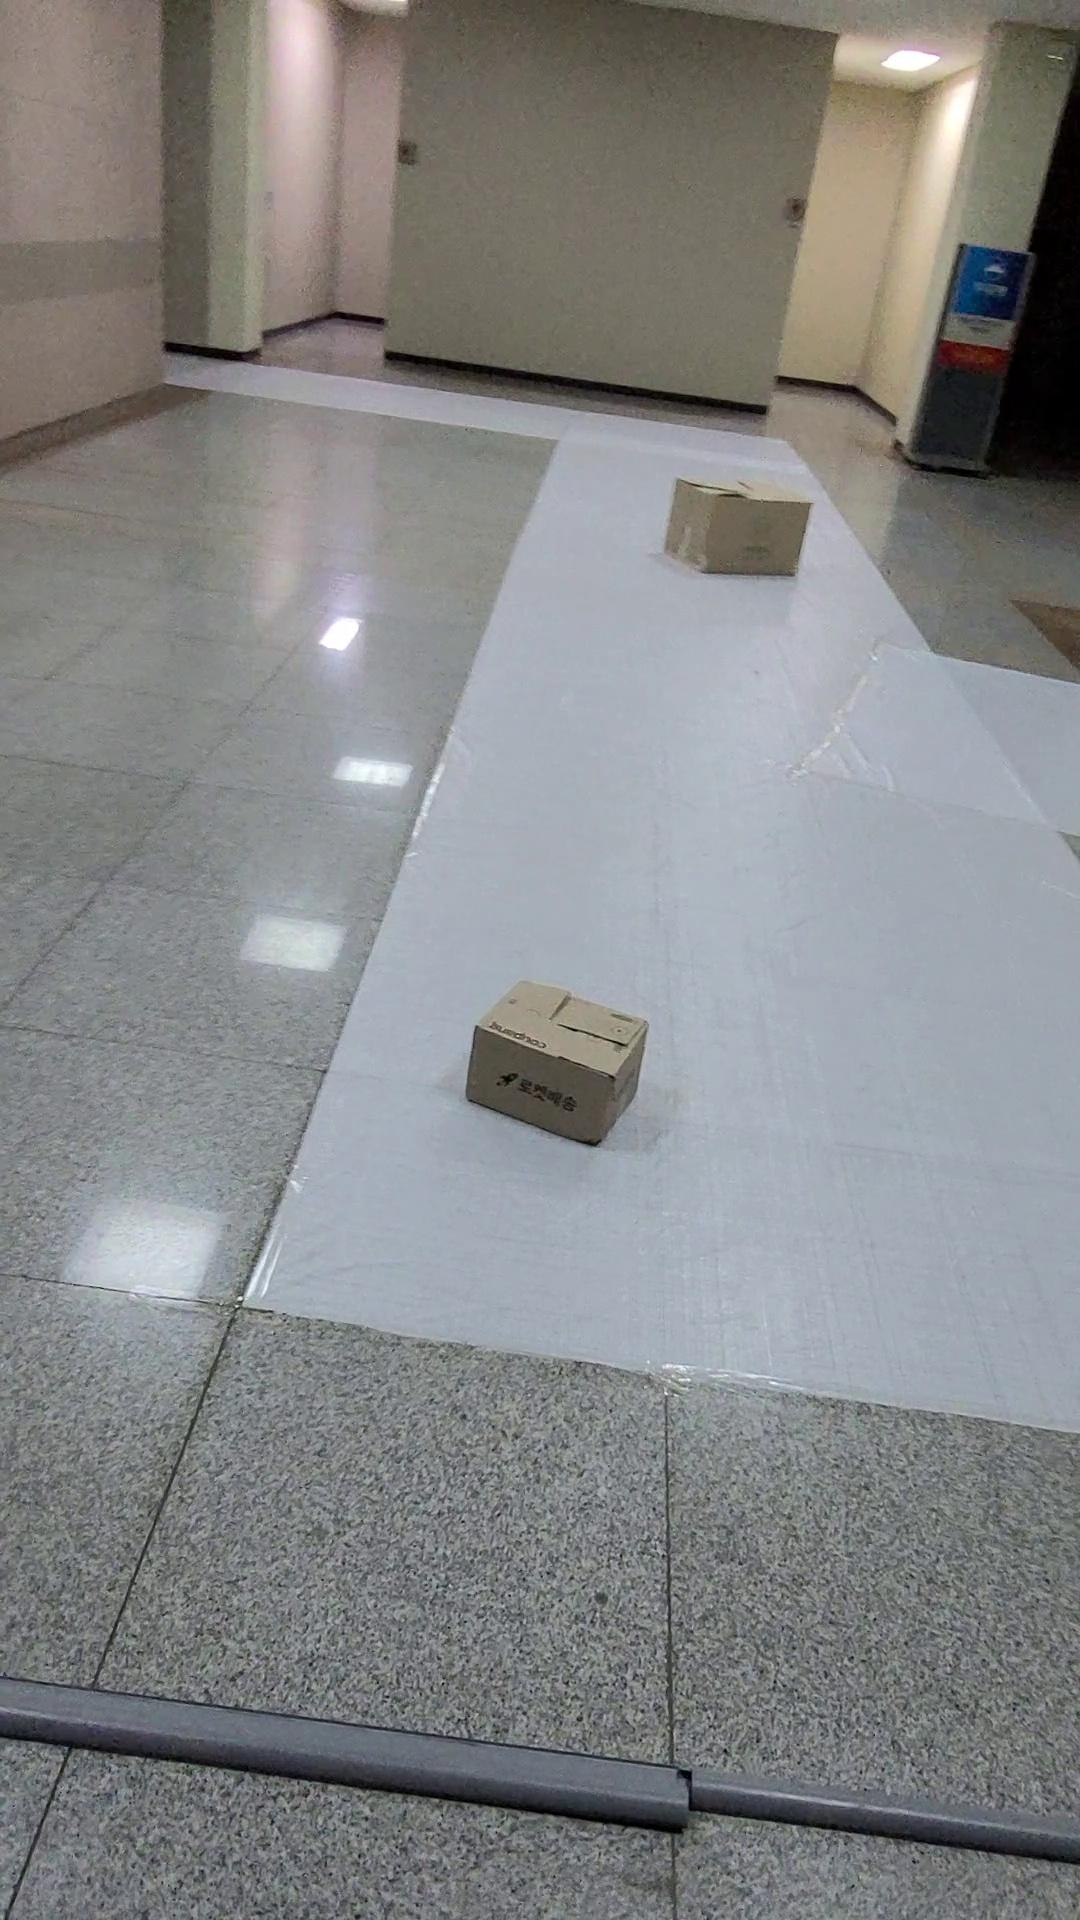Box: (454, 973, 676, 1158), (644, 450, 832, 620)
